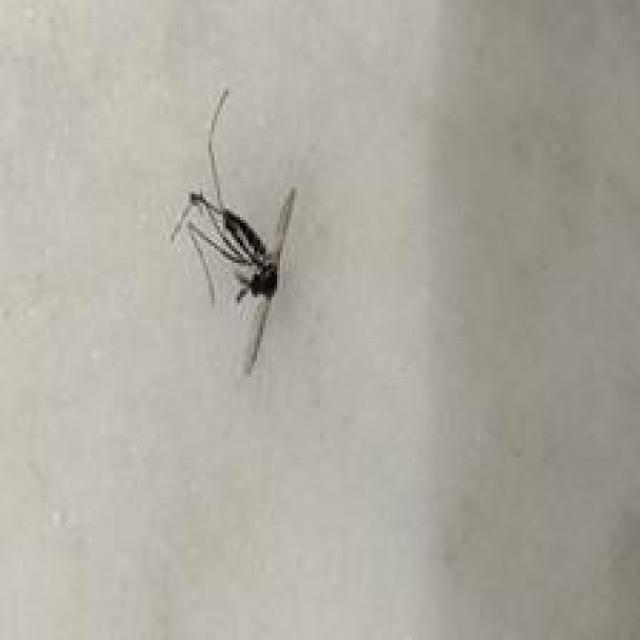Aedes albopictus: (169, 86, 300, 374)
